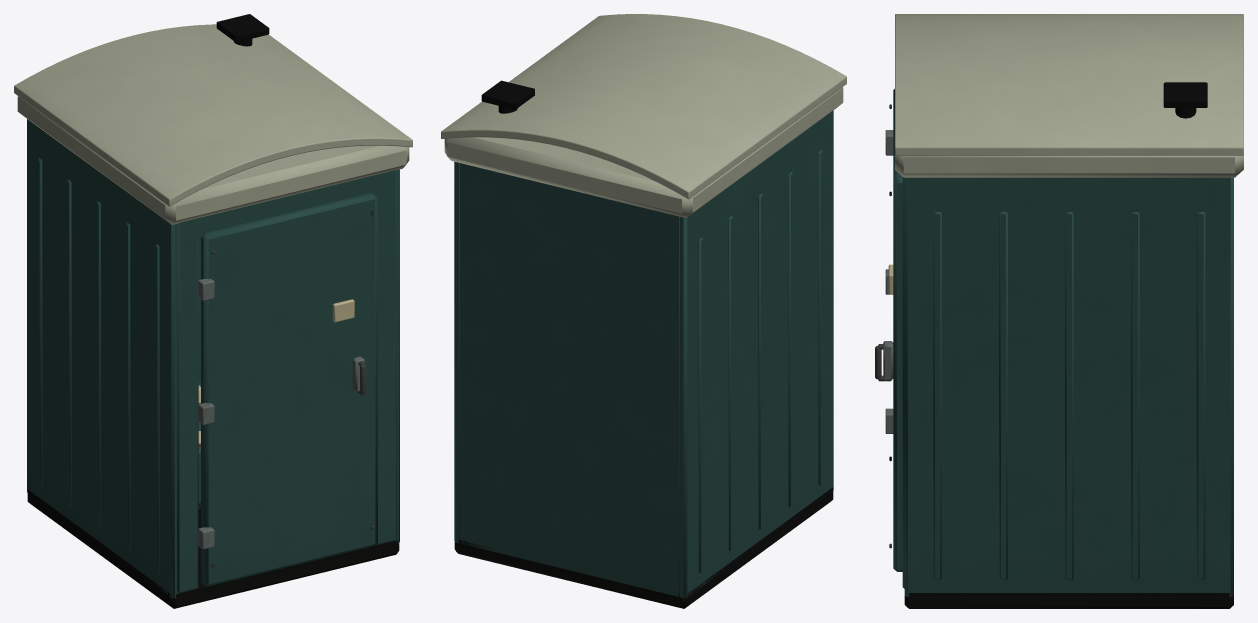
Rendered from level_camp_portable_toilet_closed_authored.glb.
3 views of the same model, side by side, from view 1: azimuth 30°, elevation 25°; view 2: azimuth 150°, elevation 25°; view 3: azimuth 270°, elevation 25° (orthographic). The views are drawn at different scales.
Parts seen in each view (by area): view 1: level_camp_portable_toilet_closed_authored; view 2: level_camp_portable_toilet_closed_authored; view 3: level_camp_portable_toilet_closed_authored.
Boxes of the visible parts, x1,y1,x2,y2 form: level_camp_portable_toilet_closed_authored: (14,14,412,608); level_camp_portable_toilet_closed_authored: (441,14,846,608); level_camp_portable_toilet_closed_authored: (875,14,1243,608).
Size of the model in its own units: 1.44 by 2.52 by 1.68.
1 material, 1 textured.
